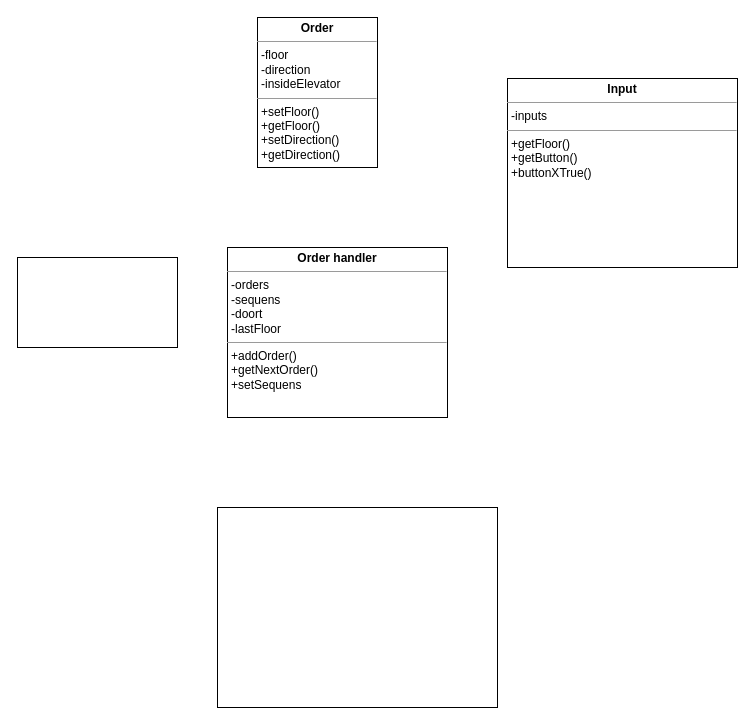
Image size: 755x725. Some labels were removed from this diagram. Each missing label, with the centre of its shape:
"Elevat or -Motor +setDirection +openDoor" goes at (357,607).
"Motor -voltage +setSpeed +getSpeed" goes at (97,302).
